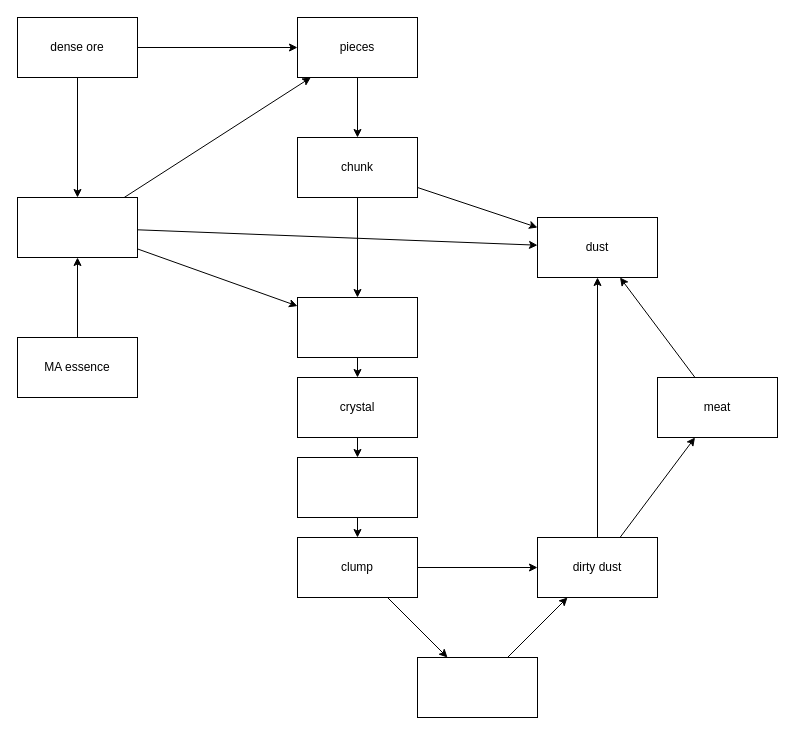
The diagram is 795 pixels wide and 735 high, and some of its shapes have lost their labels. Each missing label, with the centre of its shape:
crop: the point at 477,687
gas: the point at 357,327
ore: the point at 77,227
shard: the point at 357,487
